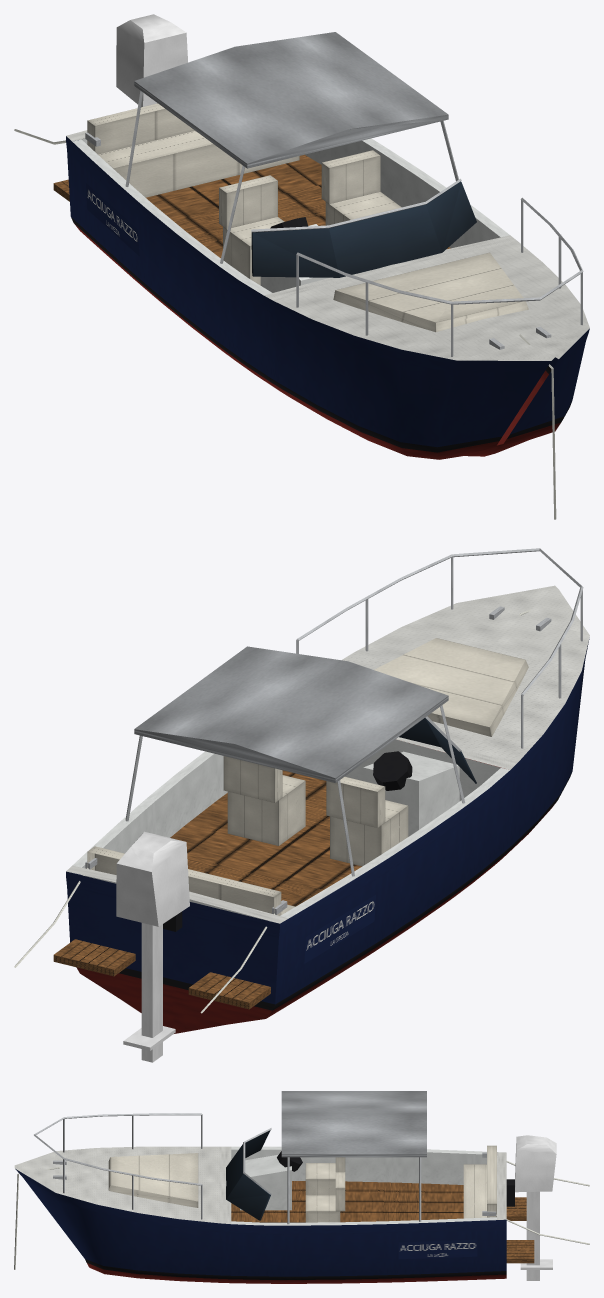
File: SM_Morin_Barca_Motoscafo_Blu.fbx
3 views of the same model, one above another, from view 1: azimuth 30°, elevation 25°; view 2: azimuth 150°, elevation 25°; view 3: azimuth 270°, elevation 25° (orthographic). The views are drawn at different scales.
Visible parts, largest first — view 1: SM_Morin_Barca_Motoscafo_Blu; view 2: SM_Morin_Barca_Motoscafo_Blu; view 3: SM_Morin_Barca_Motoscafo_Blu.
Part boxes in pixels (x1,y1,x2,y2): SM_Morin_Barca_Motoscafo_Blu: (14, 14, 589, 519); SM_Morin_Barca_Motoscafo_Blu: (14, 548, 589, 1062); SM_Morin_Barca_Motoscafo_Blu: (14, 1091, 589, 1283).
Bounding box in the file's own units: 270 × 831 × 259.
1 material, 1 textured.
